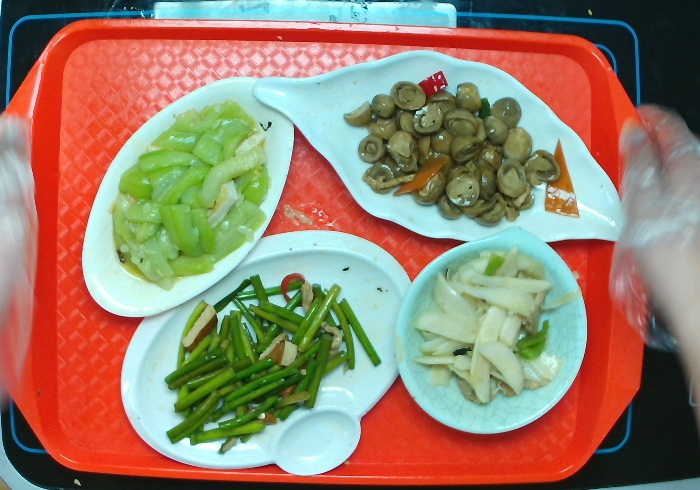RJxy-Bai_Se_Tuo_Yuan: (79, 79, 298, 319)
RJxy-Shu_Ye_Pan: (253, 46, 621, 247)
RJxy-Xiao_Jiao_Yuan_Wan: (393, 236, 585, 437)
RJxy-Zhan_Liao_Pan: (119, 228, 415, 478)
